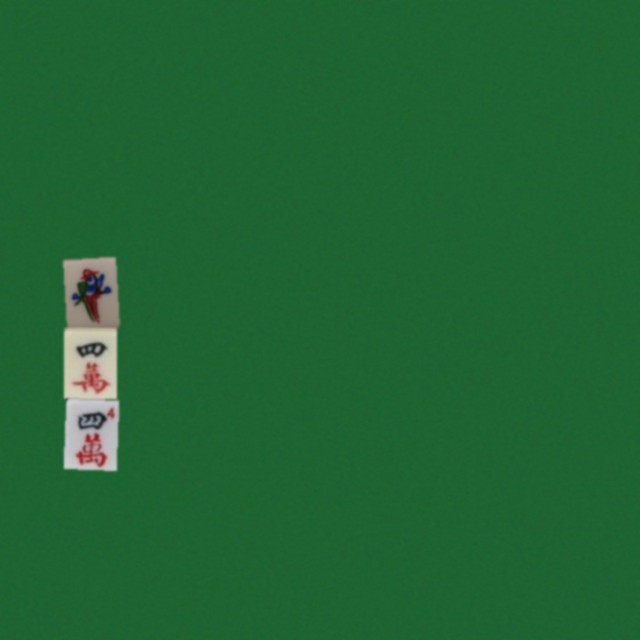tile: (63, 256, 116, 327), (63, 327, 116, 398), (63, 398, 116, 469)
